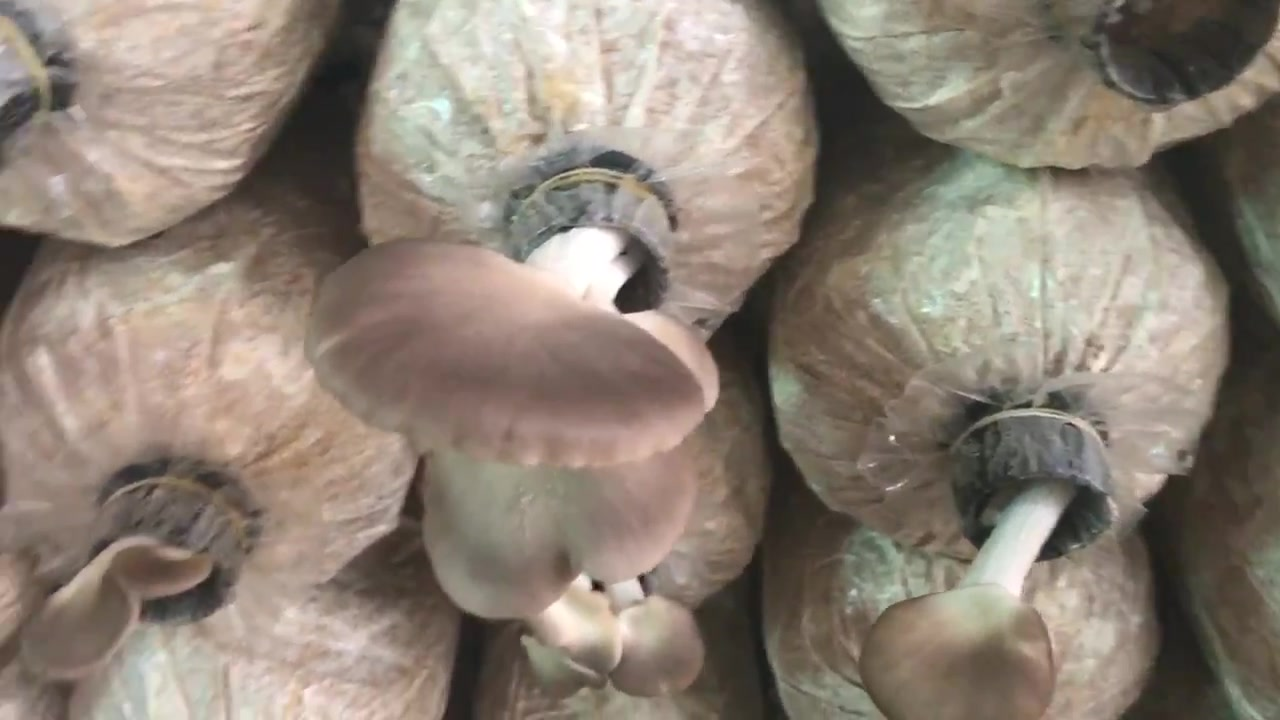nam: (304, 177, 717, 695), (858, 418, 1106, 720), (21, 487, 246, 682)
